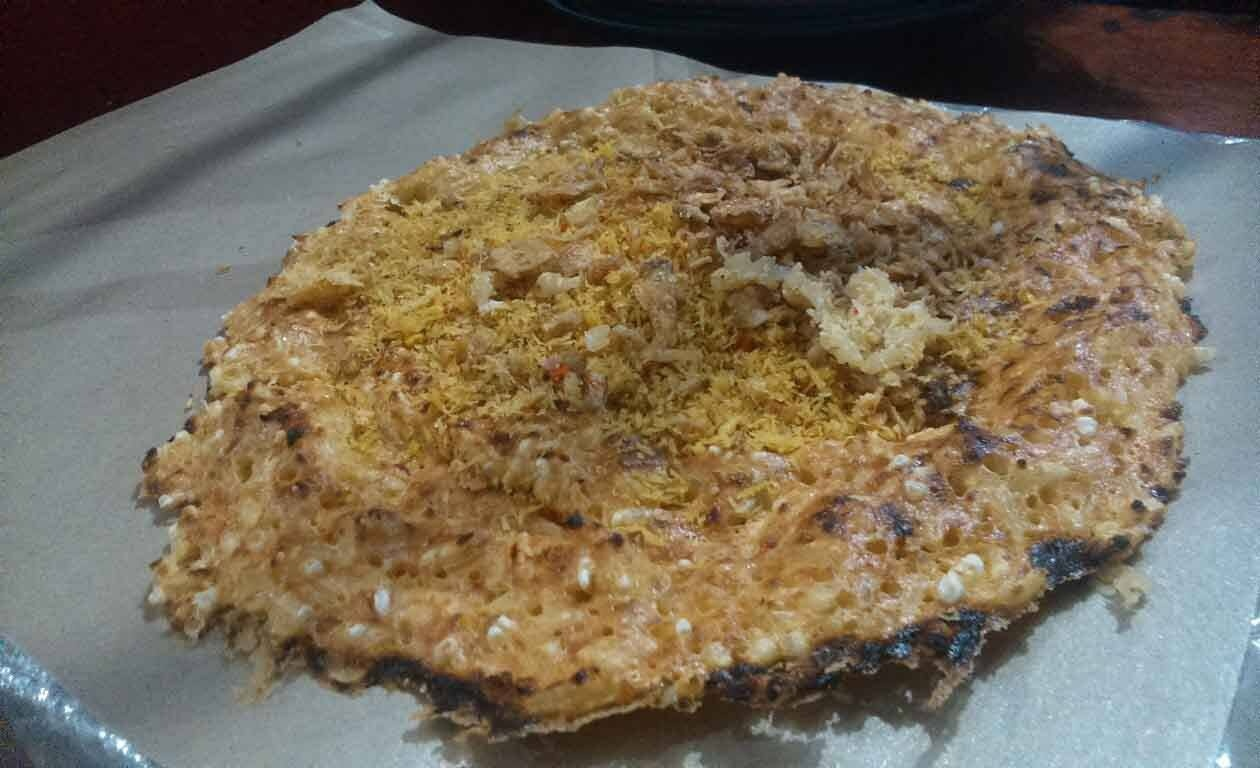kerak_telor: (131, 76, 1204, 738)
